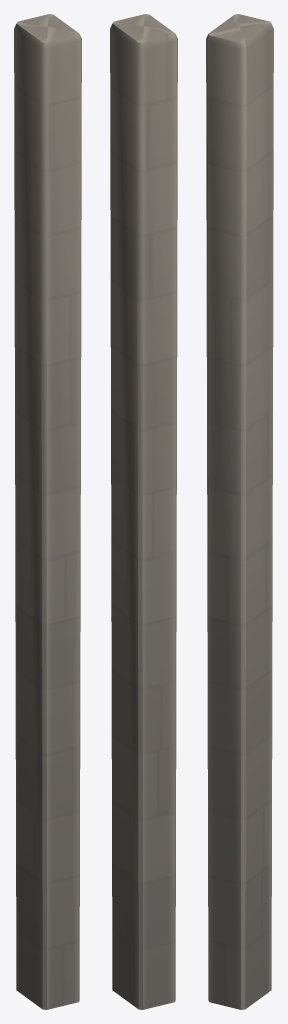
File: ext_3x4.glb
3 views of the same model, side by side, from view 1: azimuth 30°, elevation 25°; view 2: azimuth 210°, elevation 25°; view 3: azimuth 330°, elevation 25° (orthographic).
Parts seen in each view (by area): view 1: ext_3x4.001; view 2: ext_3x4.001; view 3: ext_3x4.001.
Boxes of the visible parts, x1=… form: ext_3x4.001: x1=14, y1=14, x2=81, y2=1009; ext_3x4.001: x1=110, y1=14, x2=177, y2=1009; ext_3x4.001: x1=206, y1=14, x2=273, y2=1009.
Bounding box in the file's own units: 1.75 × 40 × 2.35.
Materials: 1 (1 with a texture image).
